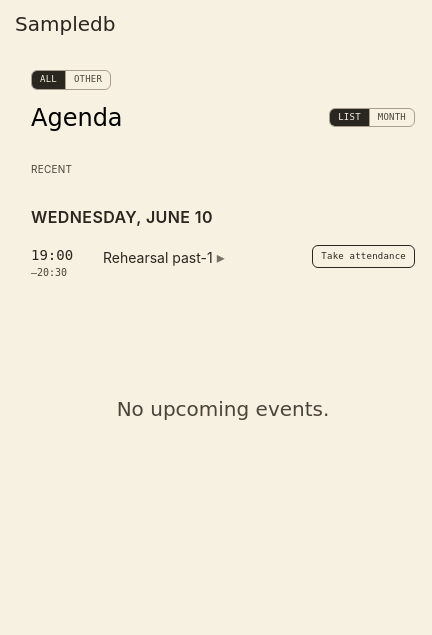
it: +page — tapping Take attendance expands the inline panel (#84 TA.3) › renders one row per roster member with P/A/L toggles each
The image size is (432, 635).
Step 1. Click the button with test id "take-attendance-btn" → (364, 256), box [312,244,415,268]
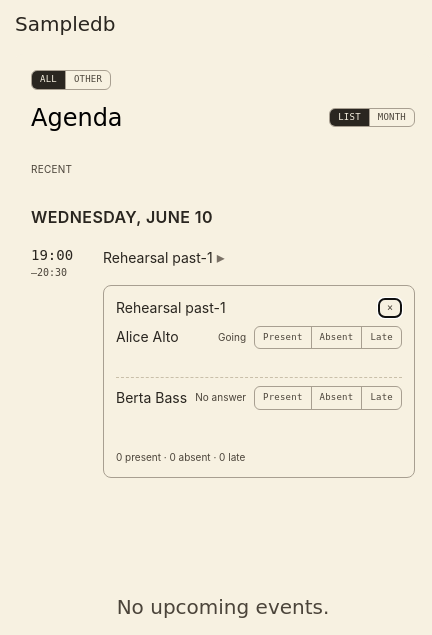
Expected: the element with test id "attendance-panel" is shown, [103,284,415,478]
Expected: the element with test id "attendance-row-m1" is shown, [116,326,402,378]
Expected: the element with test id "attendance-row-m2" is shown, [116,386,402,410]
